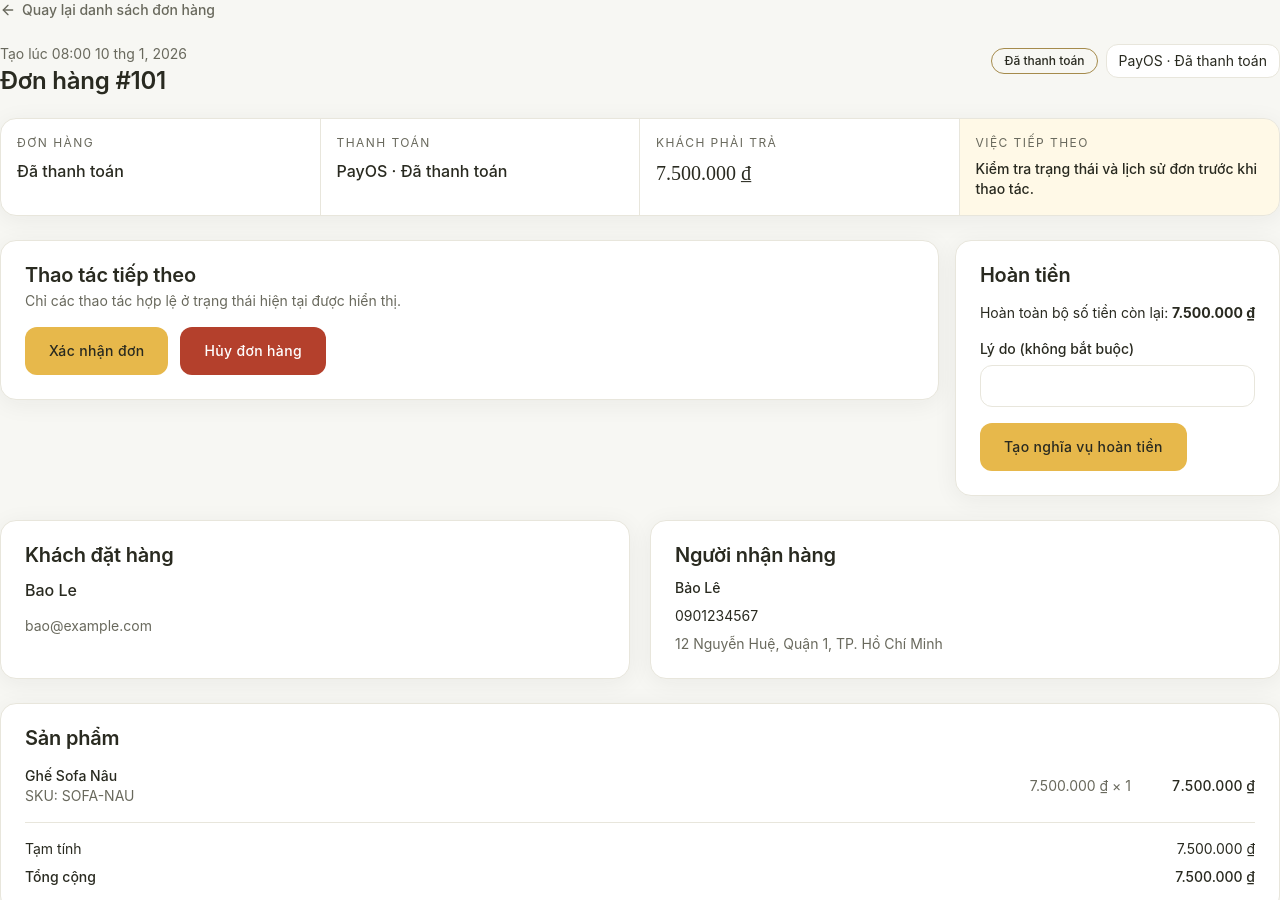
AdminOrderDetailPage › keeps the cancellation dialog open and announces a transition error
This screenshot has width=1280, height=900.
Check: the heading "Đơn hàng #101" is shown, box [0, 68, 187, 94]
Click the button "Hủy đơn hàng" at (253, 350), box [180, 326, 326, 374]
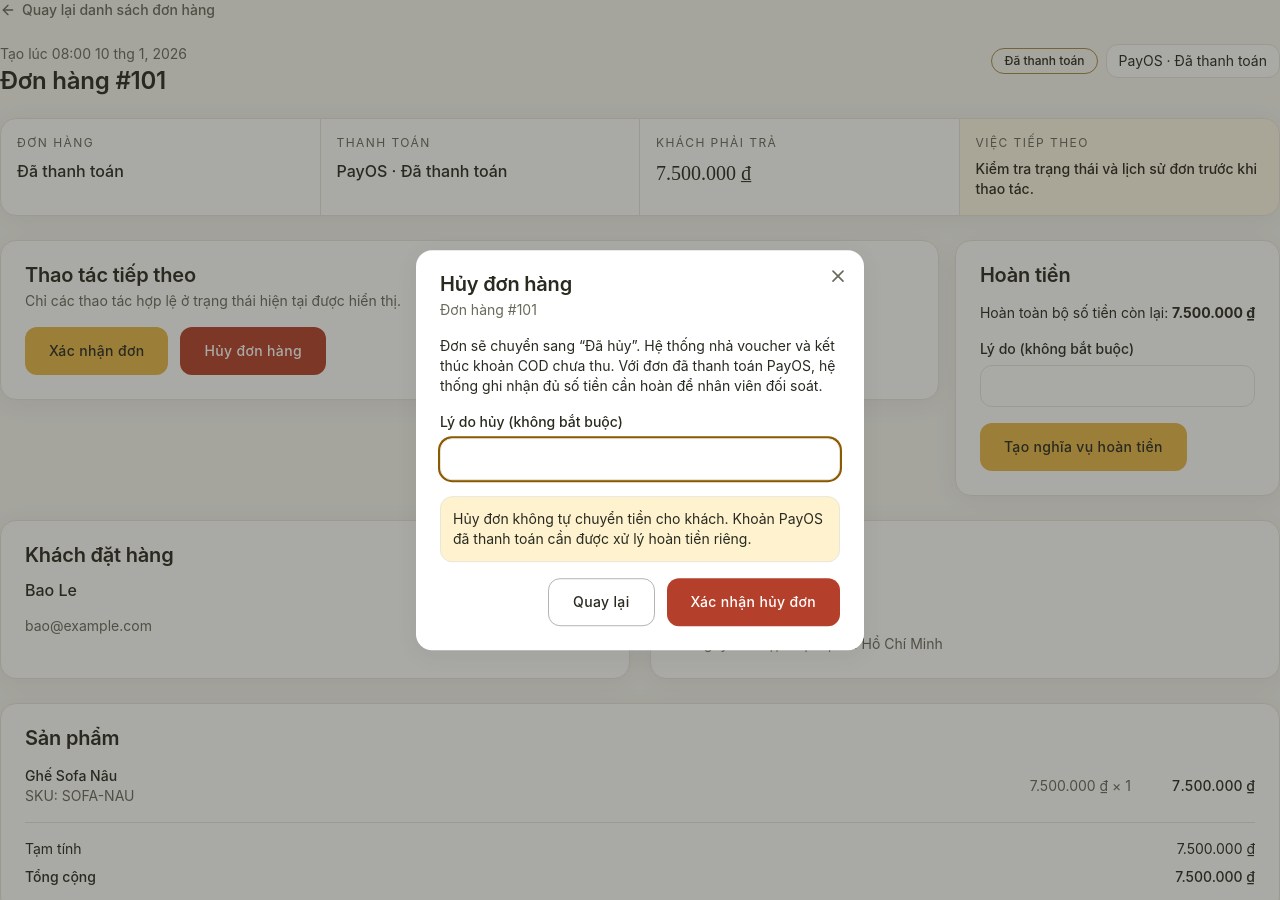
Click the button "Xác nhận hủy đơn" at (753, 602), box [666, 578, 840, 626]
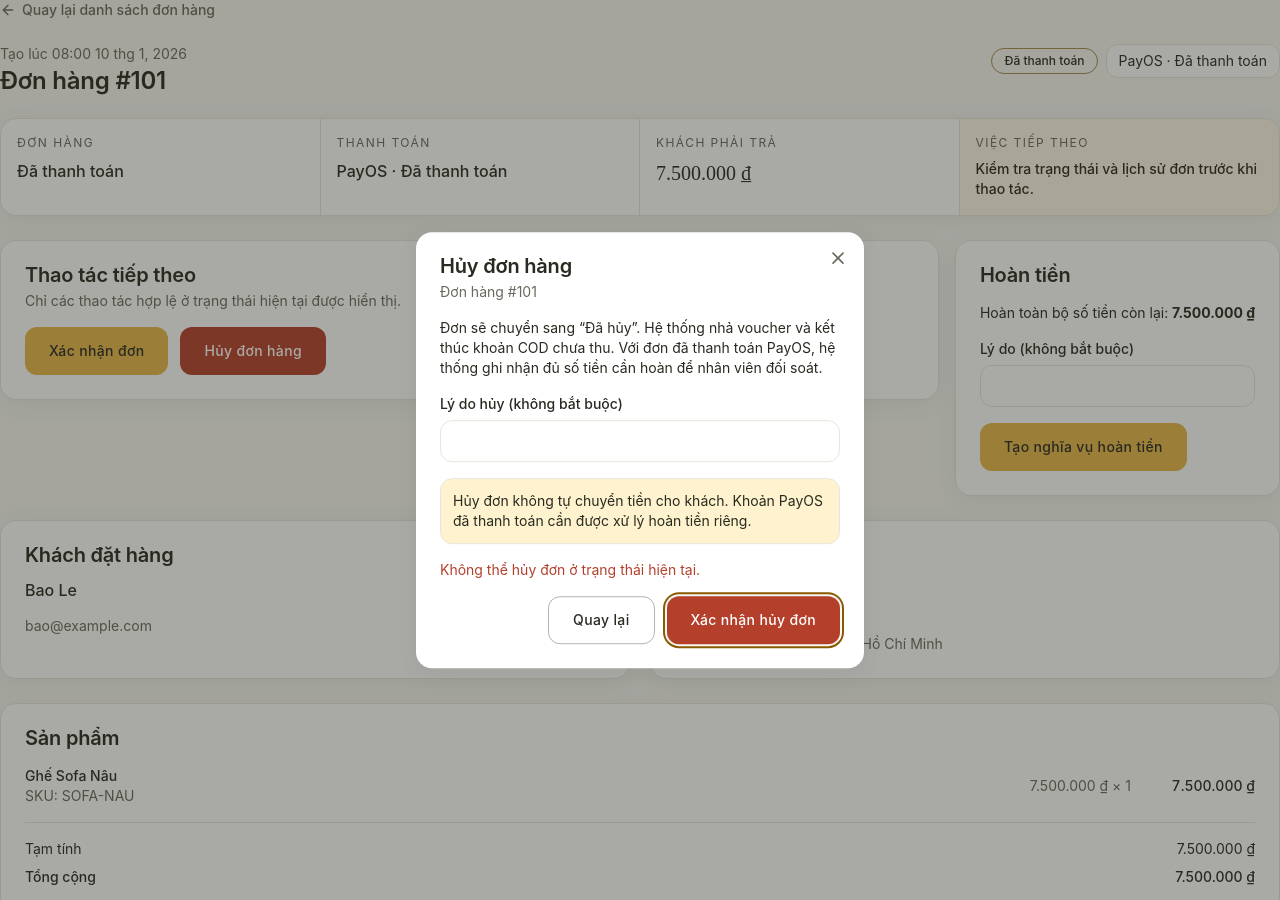
Check: the dialog "Hủy đơn hàng" is shown, box [416, 232, 864, 668]
Check: the message reads "Không thể hủy đơn ở trạng thái hiện tại.", box [440, 561, 700, 578]
